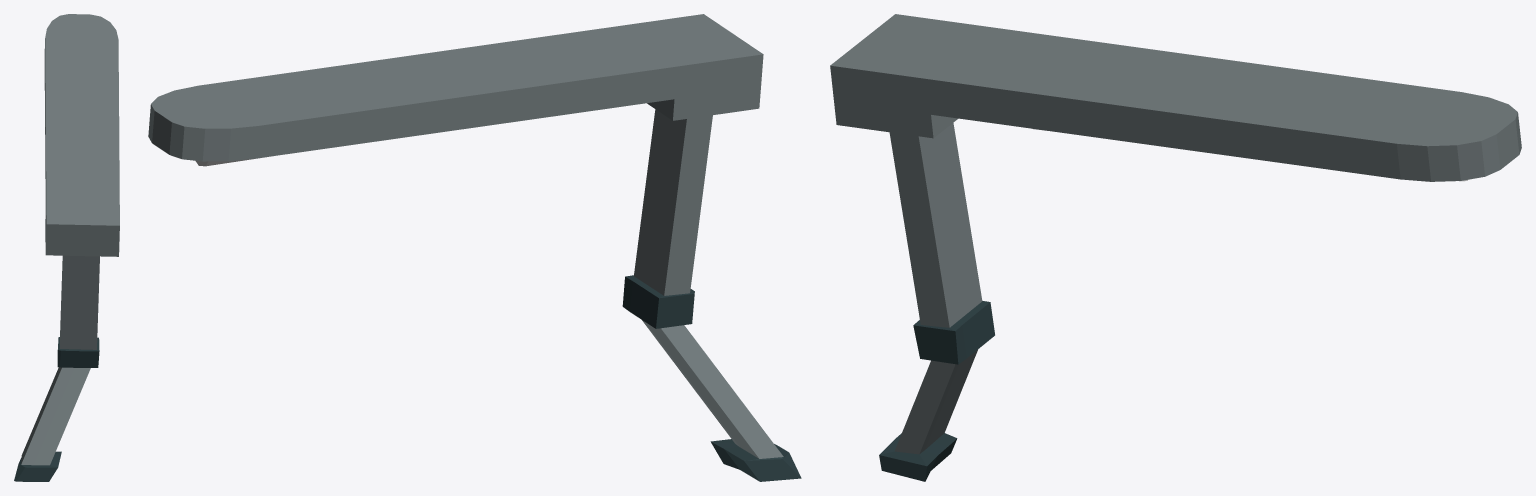
The model's file is Lamp.fbx.
The picture shows the model from 3 angles, left to right: view 1: azimuth 30°, elevation 25°; view 2: azimuth 150°, elevation 25°; view 3: azimuth 270°, elevation 25°; orthographic projection. The views are drawn at different scales.
Parts seen in each view (by area): view 1: Cube.003; view 2: Cube.003; view 3: Cube.003.
Boxes of the visible parts, bbox=[...] form: Cube.003: bbox=[14, 14, 119, 481]; Cube.003: bbox=[148, 14, 801, 481]; Cube.003: bbox=[830, 14, 1521, 481].
Bounding box in the file's own units: 49.8 × 55.77 × 66.8.
